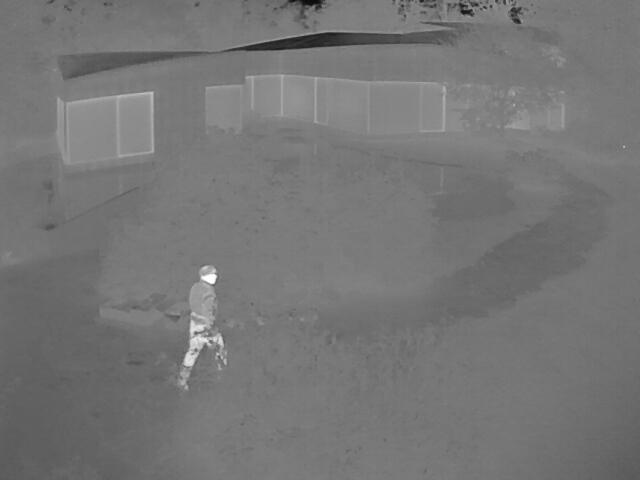person: (178, 263, 231, 387)
